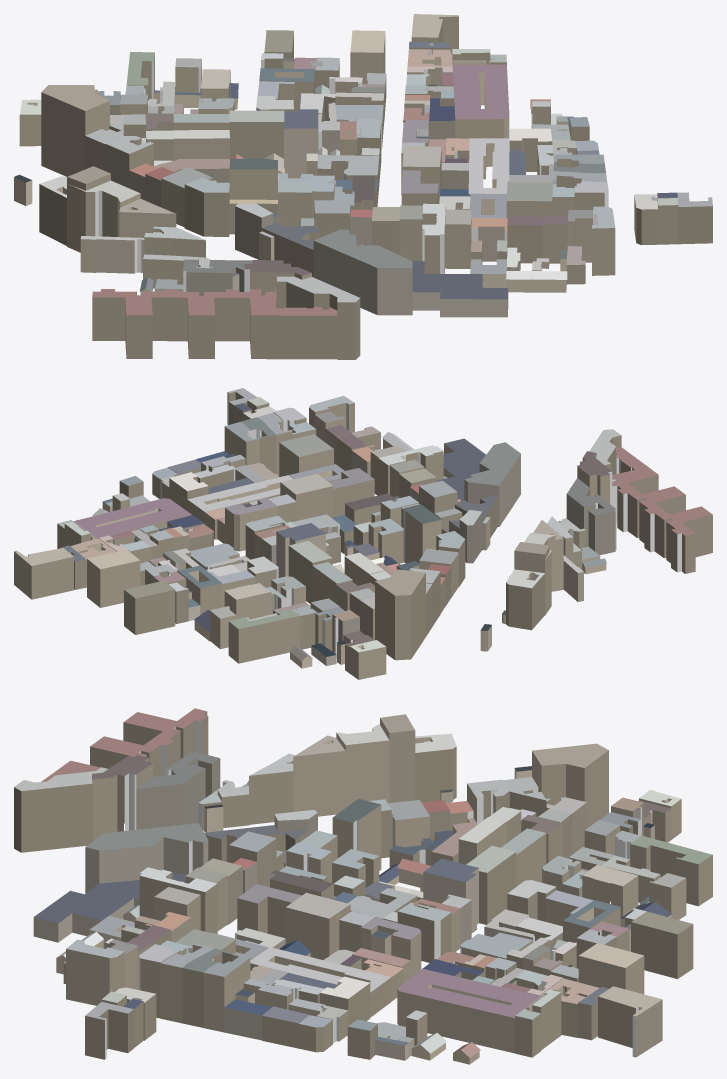
The picture shows the model from 3 angles, top to bottom: view 1: azimuth 30°, elevation 25°; view 2: azimuth 150°, elevation 25°; view 3: azimuth 270°, elevation 25°; orthographic projection. The views are drawn at different scales.
Parts seen in each view (by area): view 1: tuile; view 2: tuile; view 3: tuile.
Part boxes in pixels (x1,y1,x2,y2): tuile: (14,14,712,359); tuile: (14,388,712,679); tuile: (14,708,712,1064).
Size of the model in its own units: 296 by 39.56 by 285.
